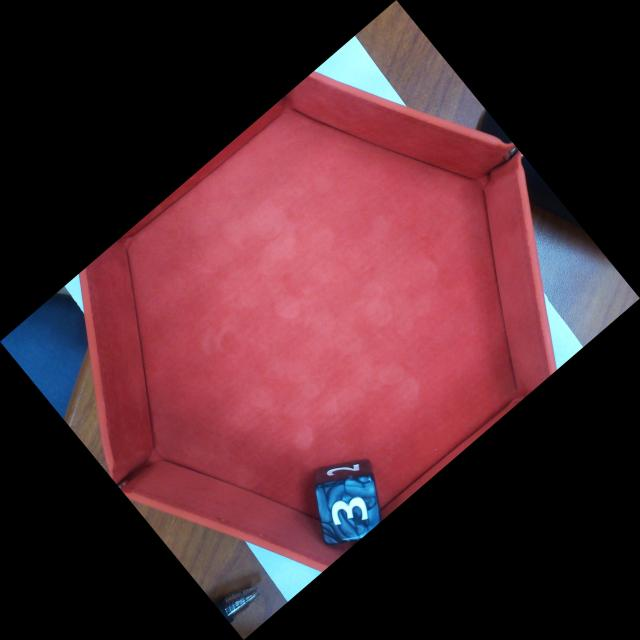dice: (309, 471, 383, 547)
